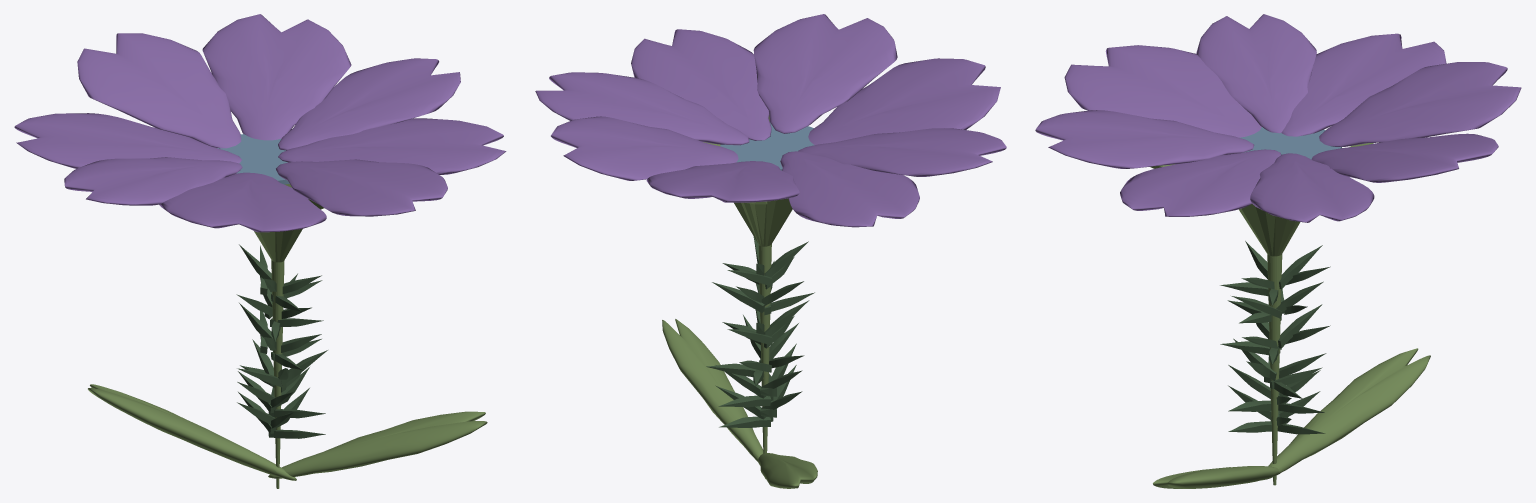
File: Flower-model-stg2.fbx
The picture shows the model from 3 angles, left to right: view 1: azimuth 30°, elevation 25°; view 2: azimuth 150°, elevation 25°; view 3: azimuth 270°, elevation 25°; orthographic projection.
Parts seen in each view (by area): view 1: pasted__pSphere1 (×2), pasted__pSphere3, pasted__pasted__pSphere3, pasted__pasted__pSphere1 (×2), pasted__pSphere4, pSphere1, pasted__pSphere2, pasted__pasted__pSphere2, FlowerStem_stg2, FlowerPetals_stg2; view 2: pasted__pSphere1 (×2), pasted__pasted__pSphere1 (×2), pSphere1, pasted__pSphere4, pasted__pSphere3, pasted__pSphere2, pasted__pasted__pSphere2, pasted__pasted__pSphere3, FlowerStem_stg2, FlowerPetals_stg2; view 3: pasted__pasted__pSphere1 (×2), pasted__pSphere1 (×2), pasted__pasted__pSphere3, pasted__pasted__pSphere2, pasted__pSphere2, pSphere1, pasted__pSphere4, pasted__pSphere3, FlowerStem_stg2, FlowerPetals_stg2.
Part boxes in pixels (bbox=[...]): pasted__pSphere1 (×2): bbox=[268, 159, 487, 478]; pasted__pSphere3: bbox=[202, 14, 351, 140]; pasted__pasted__pSphere3: bbox=[77, 33, 241, 148]; pasted__pasted__pSphere1 (×2): bbox=[88, 172, 326, 480]; pasted__pSphere4: bbox=[278, 58, 460, 150]; pSphere1: bbox=[278, 118, 506, 174]; pasted__pSphere2: bbox=[14, 113, 241, 168]; pasted__pasted__pSphere2: bbox=[64, 157, 242, 205]; FlowerStem_stg2: bbox=[254, 184, 324, 488]; FlowerPetals_stg2: bbox=[217, 134, 289, 184]; pasted__pSphere1 (×2): bbox=[662, 14, 897, 461]; pasted__pasted__pSphere1 (×2): bbox=[758, 58, 1000, 488]; pSphere1: bbox=[631, 29, 771, 140]; pasted__pSphere4: bbox=[535, 72, 749, 145]; pasted__pSphere3: bbox=[551, 116, 738, 180]; pasted__pSphere2: bbox=[780, 151, 919, 227]; pasted__pasted__pSphere2: bbox=[798, 128, 1006, 176]; pasted__pasted__pSphere3: bbox=[646, 161, 799, 202]; FlowerStem_stg2: bbox=[703, 115, 792, 453]; FlowerPetals_stg2: bbox=[720, 122, 814, 170]; pasted__pasted__pSphere1 (×2): bbox=[1064, 45, 1430, 480]; pasted__pSphere1 (×2): bbox=[1035, 110, 1279, 488]; pasted__pasted__pSphere3: bbox=[1319, 62, 1521, 146]; pasted__pasted__pSphere2: bbox=[1196, 14, 1316, 133]; pasted__pSphere2: bbox=[1281, 33, 1446, 136]; pSphere1: bbox=[1120, 149, 1281, 216]; pasted__pSphere4: bbox=[1250, 153, 1374, 222]; pasted__pSphere3: bbox=[1311, 133, 1498, 182]; FlowerStem_stg2: bbox=[1150, 143, 1373, 485]; FlowerPetals_stg2: bbox=[1239, 127, 1341, 159].
Bounding box in the file's own units: 6.02 × 5.19 × 6.03.
